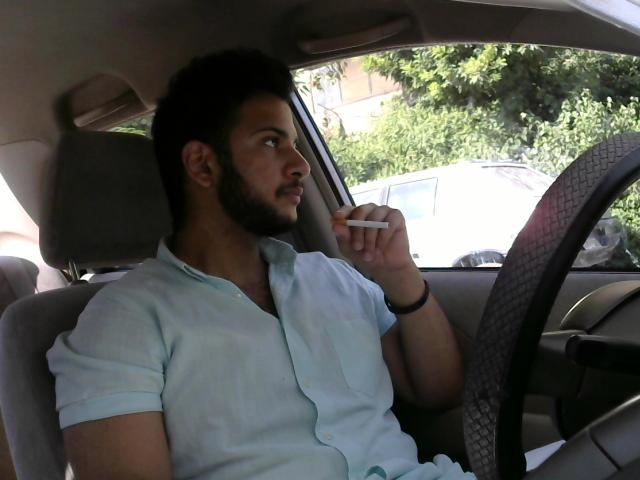Smoking: (329, 213, 390, 234)
